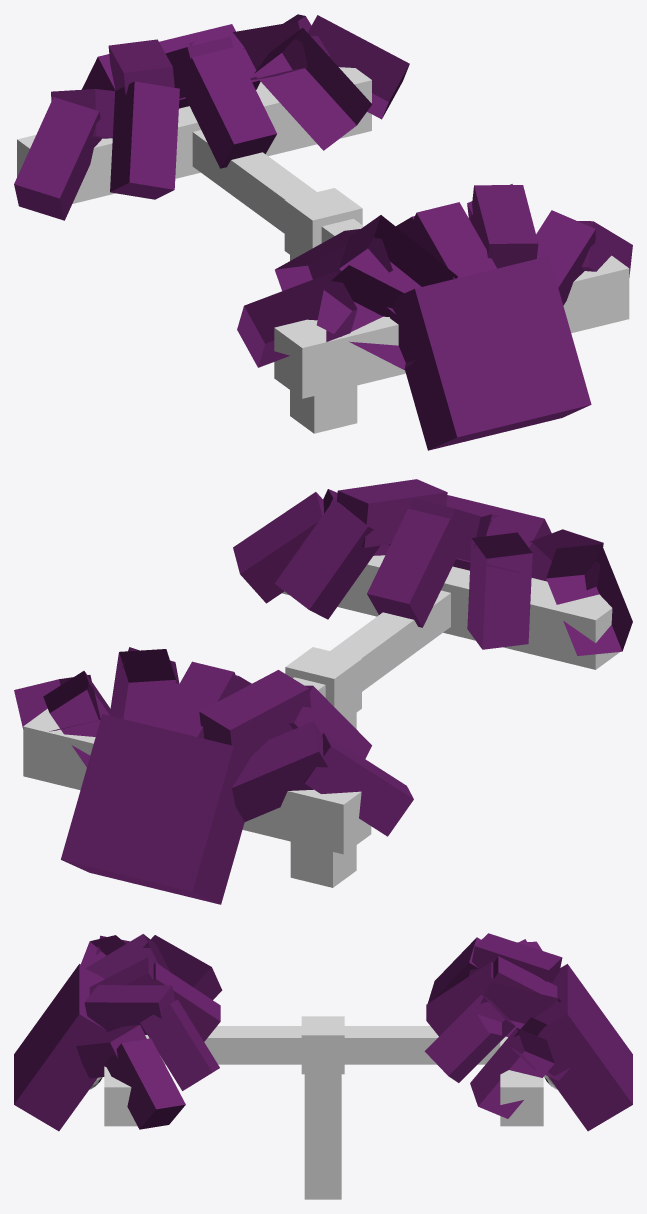
File: Tortured2.fbx
3 views of the same model, one above another, from view 1: azimuth 30°, elevation 25°; view 2: azimuth 150°, elevation 25°; view 3: azimuth 270°, elevation 25° (orthographic). The views are drawn at different scales.
Visible parts, largest first — view 1: Cube.001, Cube, Cube.014, Cube.013; view 2: Cube, Cube.001, Cube.014, Cube.013; view 3: Cube.001, Cube, Cube.014, Cube.013.
Boxes of the visible parts, x1,y1,x2,y2 form: Cube.001: (237, 184, 632, 450); Cube: (14, 14, 409, 220); Cube.014: (17, 67, 629, 398); Cube.013: (284, 188, 362, 433); Cube: (14, 647, 413, 904); Cube.001: (233, 479, 632, 655); Cube.014: (23, 555, 619, 854); Cube.013: (285, 647, 361, 887); Cube.001: (14, 934, 222, 1131); Cube: (424, 933, 632, 1131); Cube.014: (104, 1026, 543, 1126); Cube.013: (301, 1016, 344, 1199).
Bounding box in the file's own units: 599 × 423 × 1036.
